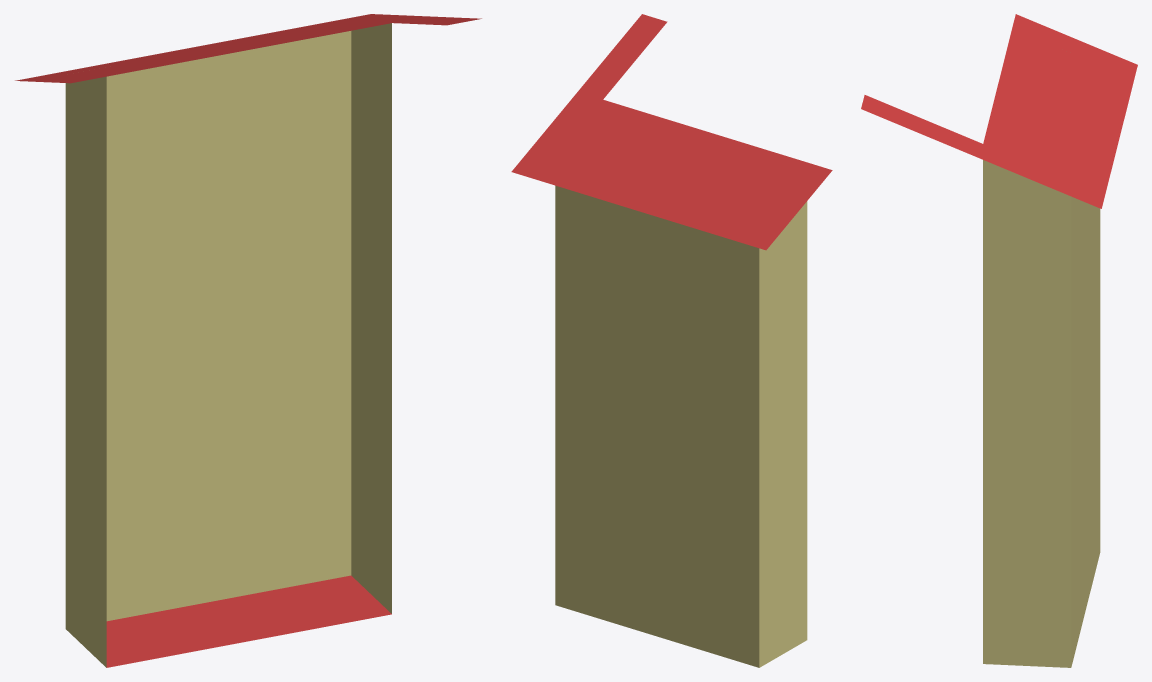
3 views of the same model, side by side, from view 1: azimuth 30°, elevation 25°; view 2: azimuth 150°, elevation 25°; view 3: azimuth 270°, elevation 25° (orthographic). The views are drawn at different scales.
Bounding box in the file's own units: 5.18 × 4.04 × 9.09.
